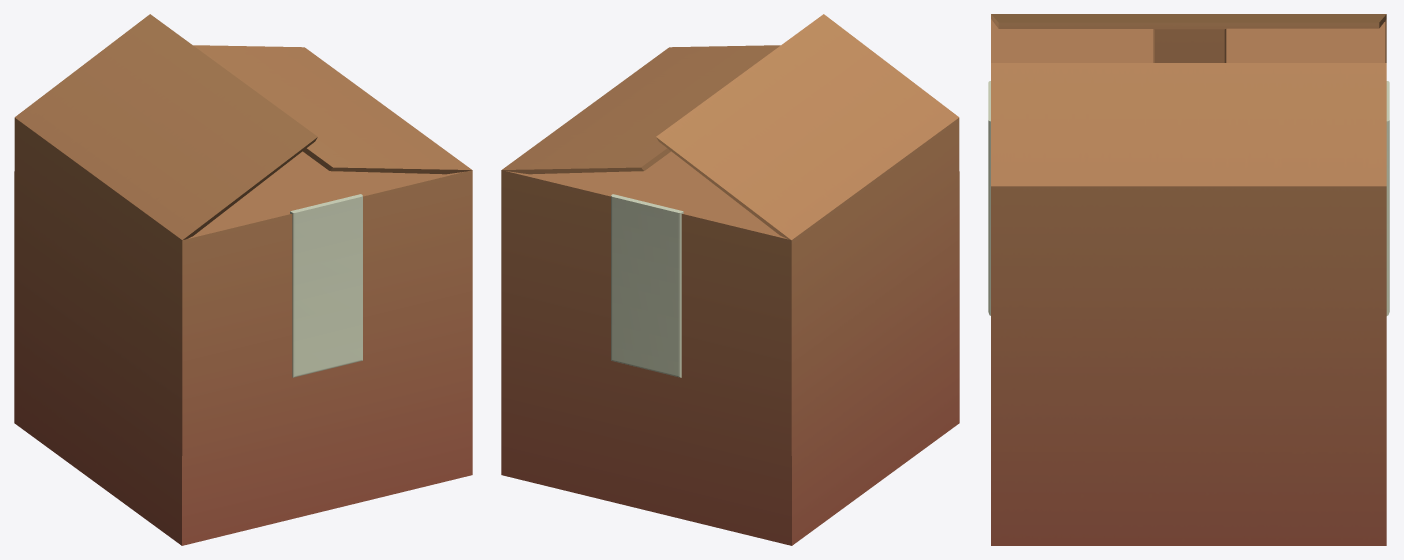
The model's file is PR_CardboardBox.fbx.
3 renders of one model, left to right at view 1: azimuth 30°, elevation 25°; view 2: azimuth 150°, elevation 25°; view 3: azimuth 270°, elevation 25°, orthographic. The views are drawn at different scales.
Visible parts, largest first — view 1: PR_CardboardBox; view 2: PR_CardboardBox; view 3: PR_CardboardBox.
Part boxes in pixels (x1,y1,x2,y2): PR_CardboardBox: (14, 14, 472, 545); PR_CardboardBox: (501, 14, 959, 545); PR_CardboardBox: (988, 14, 1389, 545).
Size of the model in its own units: 63.69 by 78.7 by 64.6.
1 material, 1 textured.
